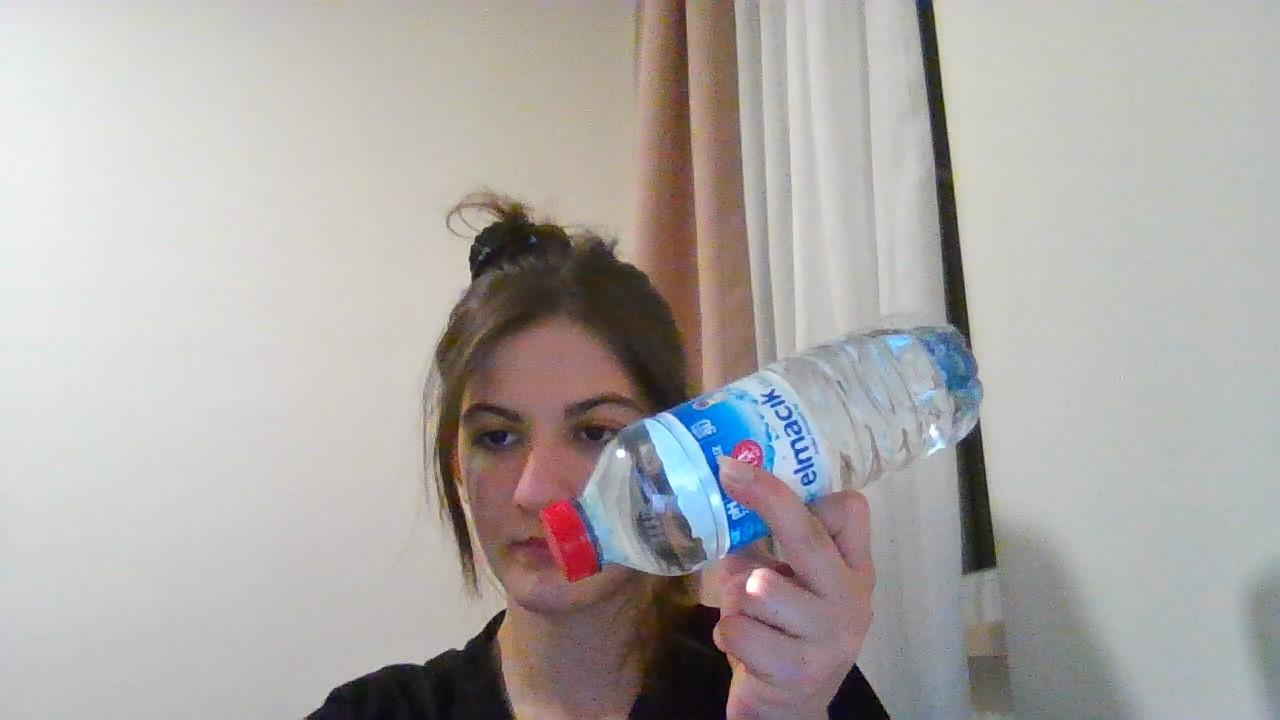bottle: (546, 321, 984, 573)
